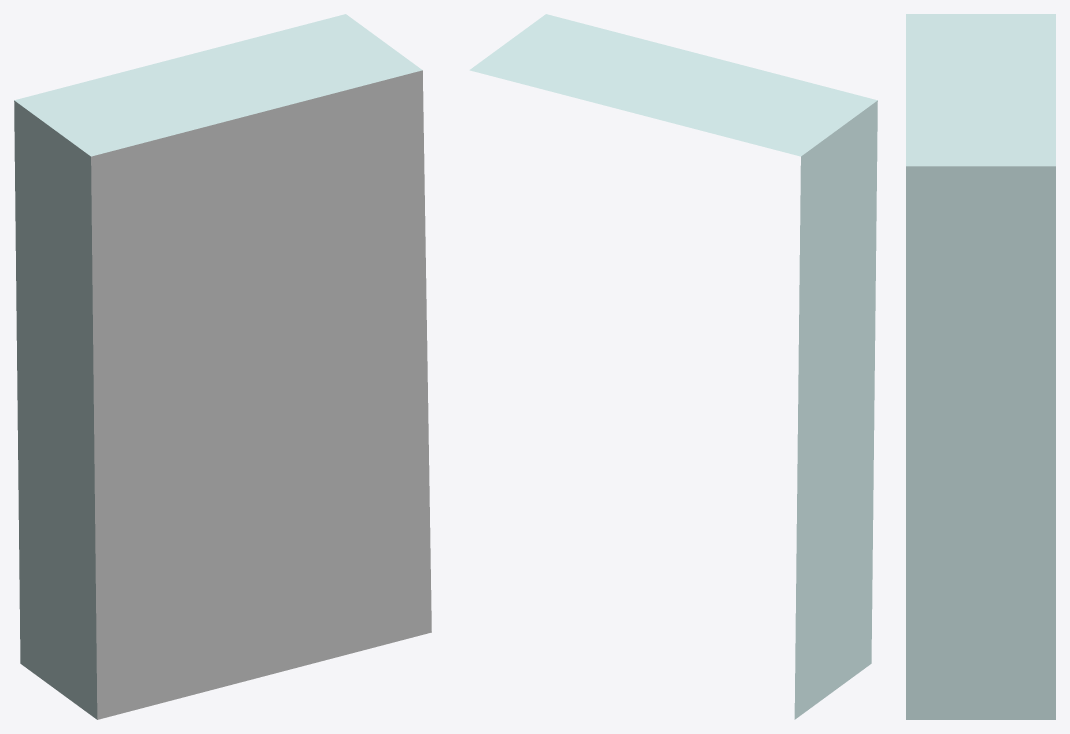
The picture shows the model from 3 angles, left to right: view 1: azimuth 30°, elevation 25°; view 2: azimuth 150°, elevation 25°; view 3: azimuth 270°, elevation 25°; orthographic projection. The views are drawn at different scales.
Visible parts, largest first — view 1: 0_3_2_2_1_1_0_0_1; view 2: 0_3_2_2_1_1_0_0_1; view 3: 0_3_2_2_1_1_0_0_1.
Boxes of the visible parts, bbox=[...] form: 0_3_2_2_1_1_0_0_1: bbox=[14, 14, 431, 719]; 0_3_2_2_1_1_0_0_1: bbox=[469, 14, 877, 719]; 0_3_2_2_1_1_0_0_1: bbox=[906, 14, 1055, 719].
Size of the model in its own units: 7.67 by 12.27 by 3.
